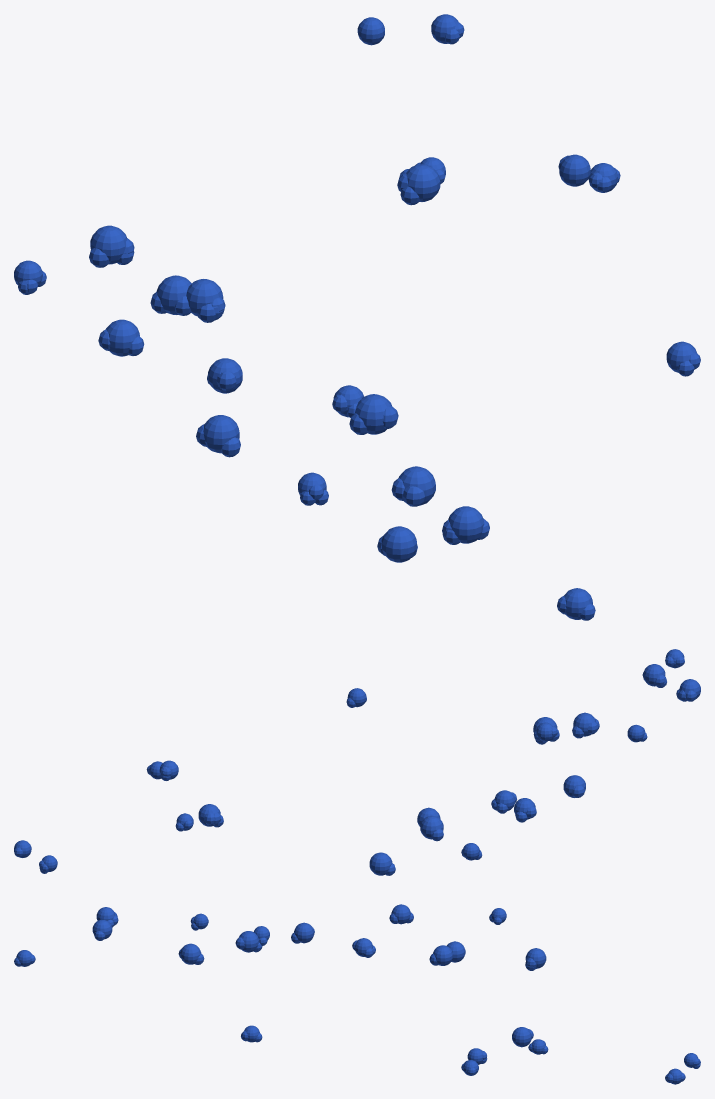
Rendered from CanopyW2.fbx.
3 views of the same model, one above another, from view 1: azimuth 30°, elevation 25°; view 2: azimuth 150°, elevation 25°; view 3: azimuth 270°, elevation 25° (orthographic). The views are drawn at different scales.
Parts seen in each view (by area): view 1: CanopyW1.001; view 2: CanopyW1.001; view 3: CanopyW1.001.
Boxes of the visible parts, left/top/right/bottom form: CanopyW1.001: left=14, top=14, right=700, bottom=620; CanopyW1.001: left=14, top=649, right=700, bottom=875; CanopyW1.001: left=14, top=904, right=700, bottom=1084.
Bounding box in the file's own units: 17220 × 1950 × 31273.
